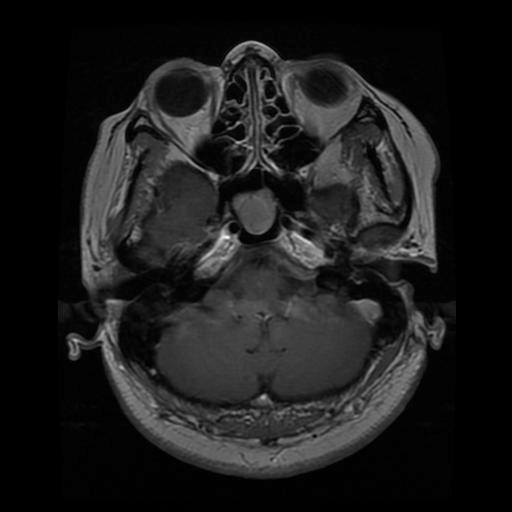Tumour-Pituitary: (225, 188, 285, 244)
